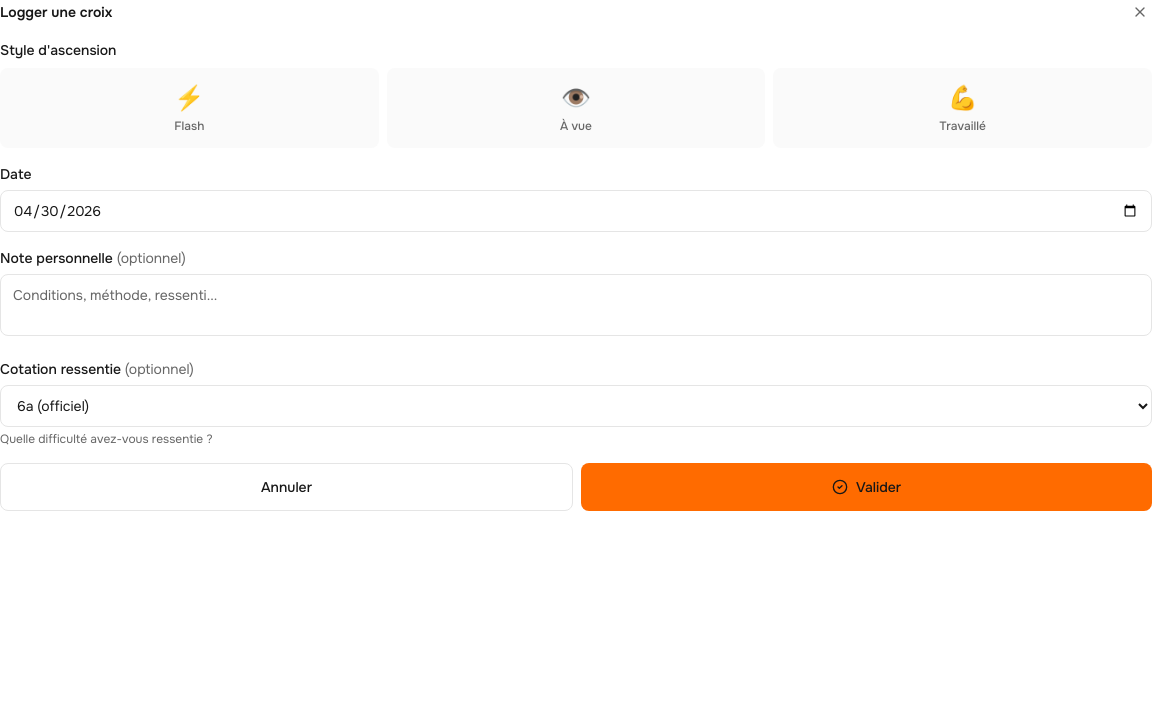
Test case: TickForm › eco gate (Story 14e.1) › does not save the tick on the first Valider — opens the eco dialog
Click the text "Flash". click: (189, 126)
box: [174,118,204,134]
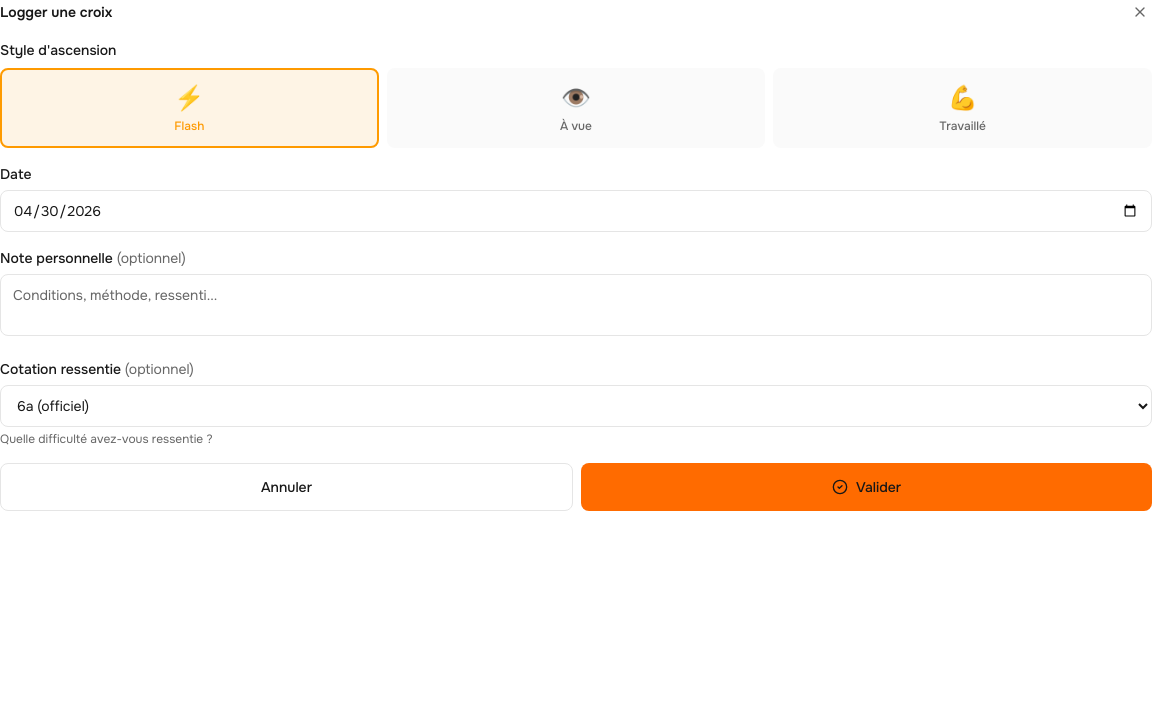
Click the button "Valider". click: (866, 487)
box: [581,463,1151,511]
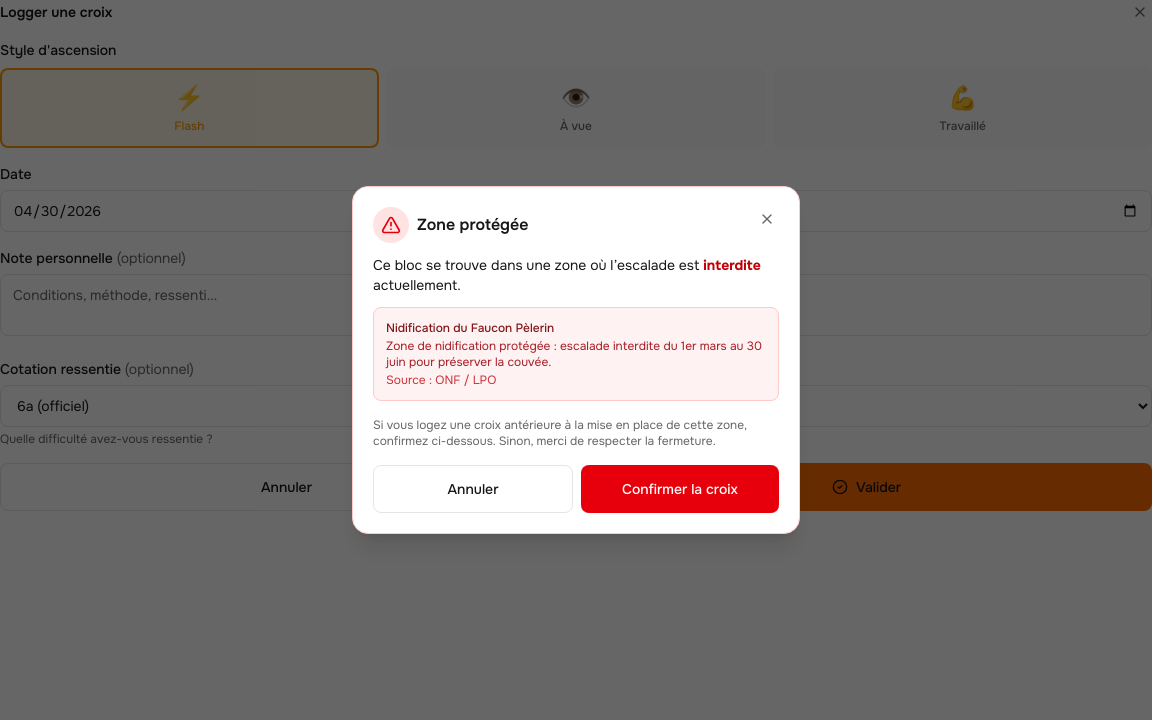
Now the dialog with test id "eco-warning-dialog" is shown
